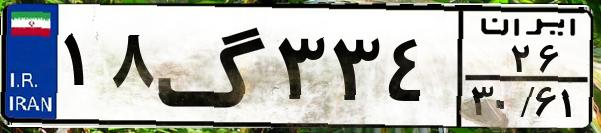0: (495, 70, 520, 125)
1: (57, 26, 110, 100), (560, 70, 590, 125)
2: (508, 27, 537, 80)
3: (270, 28, 330, 110), (330, 28, 385, 110), (470, 70, 495, 125)
4: (385, 28, 445, 110)
6: (537, 27, 568, 80), (535, 70, 560, 125)
8: (110, 28, 156, 98)
گ: (156, 12, 270, 120)
